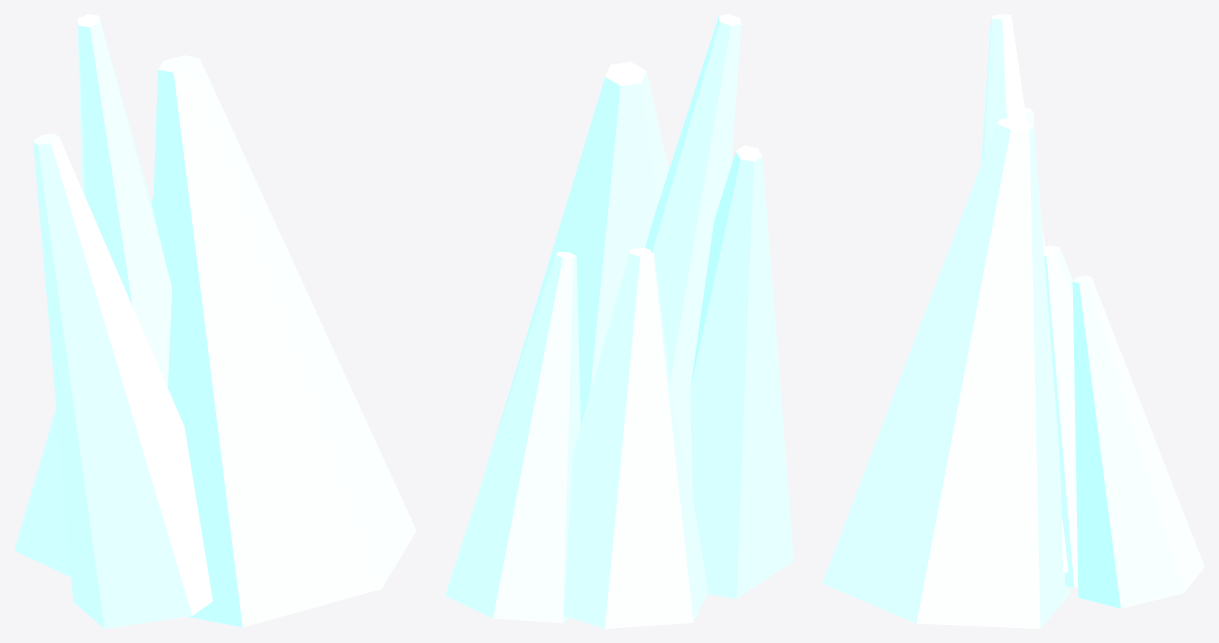
File: spirit_stone_cluster.glb
3 renders of one model, left to right at view 1: azimuth 30°, elevation 25°; view 2: azimuth 150°, elevation 25°; view 3: azimuth 270°, elevation 25°, orthographic. The views are drawn at different scales.
Visible parts, largest first — view 1: Crystal_4, Crystal_2, Crystal_3, Crystal_0; view 2: Crystal_0, Crystal_2, Crystal_1, Crystal_4, Crystal_3; view 3: Crystal_4, Crystal_1, Crystal_0, Crystal_3.
Boxes of the visible parts, x1,y1,x2,y2 form: Crystal_4: (153, 55, 416, 627); Crystal_2: (33, 133, 212, 628); Crystal_3: (77, 14, 171, 387); Crystal_0: (14, 408, 70, 576); Crystal_0: (563, 248, 707, 628); Crystal_2: (690, 145, 793, 598); Crystal_1: (445, 251, 580, 623); Crystal_4: (485, 62, 668, 471); Crystal_3: (645, 14, 741, 496); Crystal_4: (822, 118, 1070, 628); Crystal_1: (1072, 275, 1204, 608); Crystal_0: (1043, 245, 1078, 587); Crystal_3: (981, 14, 1068, 572).
Bounding box in the file's own units: 0.6318 × 1.1 × 0.7287.
